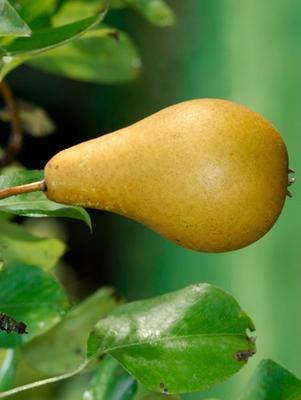pear: (0, 0, 301, 400)
